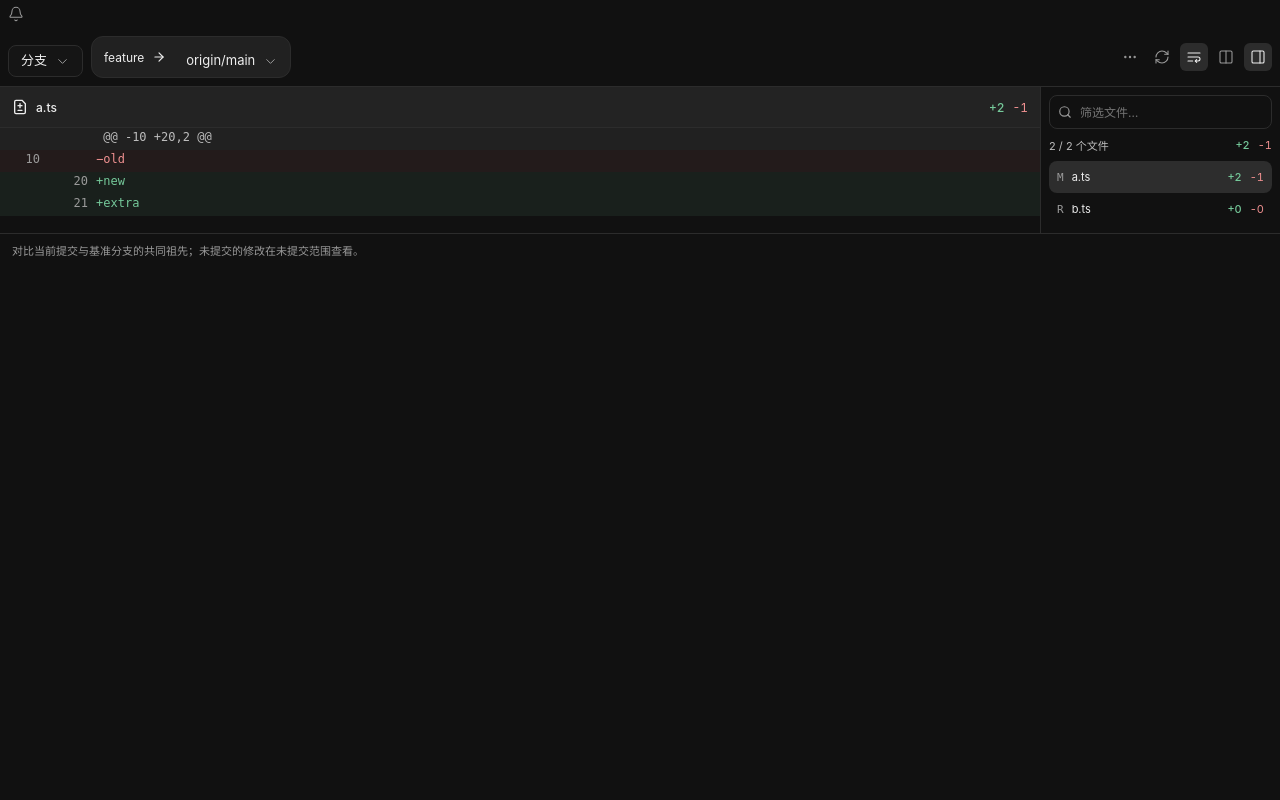
uses the server's empty snapshot result and reports unsupported responses
This screenshot has width=1280, height=800.
expect the element named "统一文件差异" is shown: met, box x1=0 y1=128 x2=1040 y2=216
Click the dropdown named "变更范围".
click(46, 61)  # box x1=8 y1=45 x2=83 y2=77
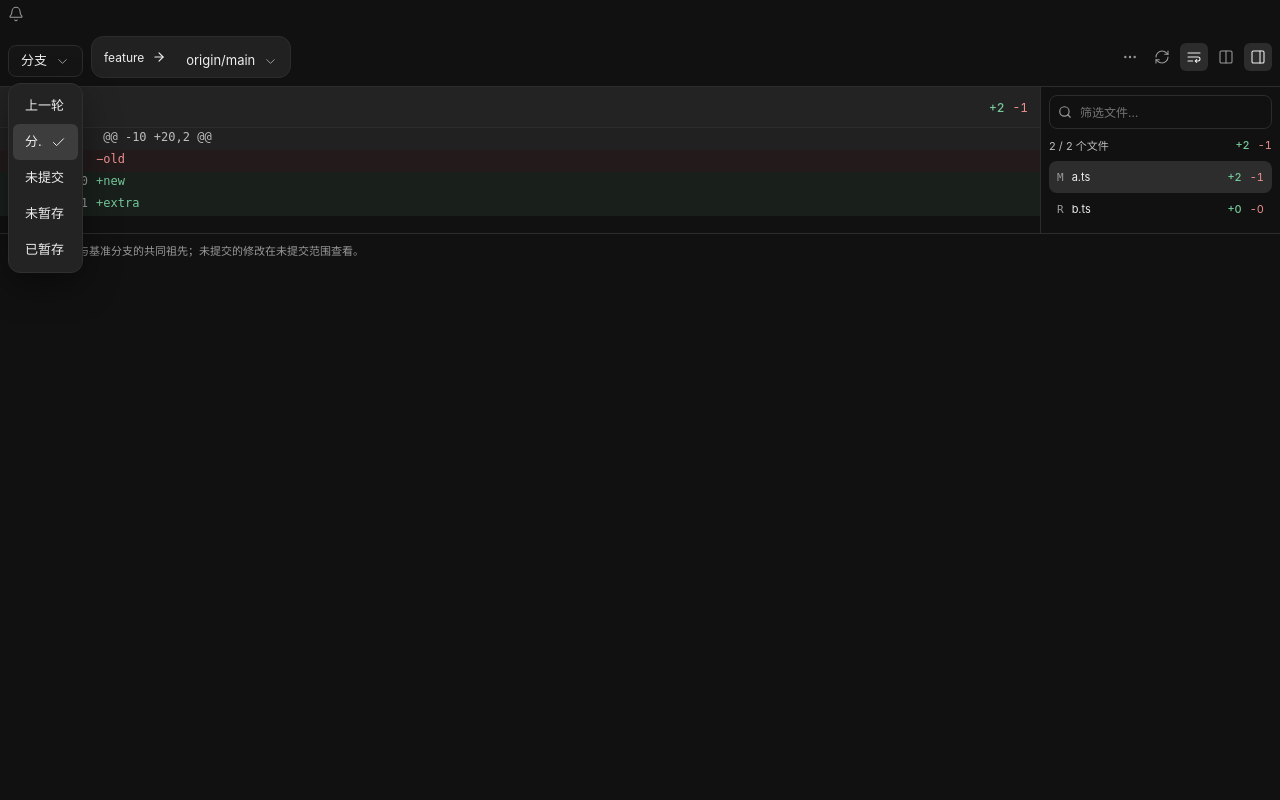
Click the option "上一轮".
click(46, 106)  # box x1=13 y1=88 x2=78 y2=124
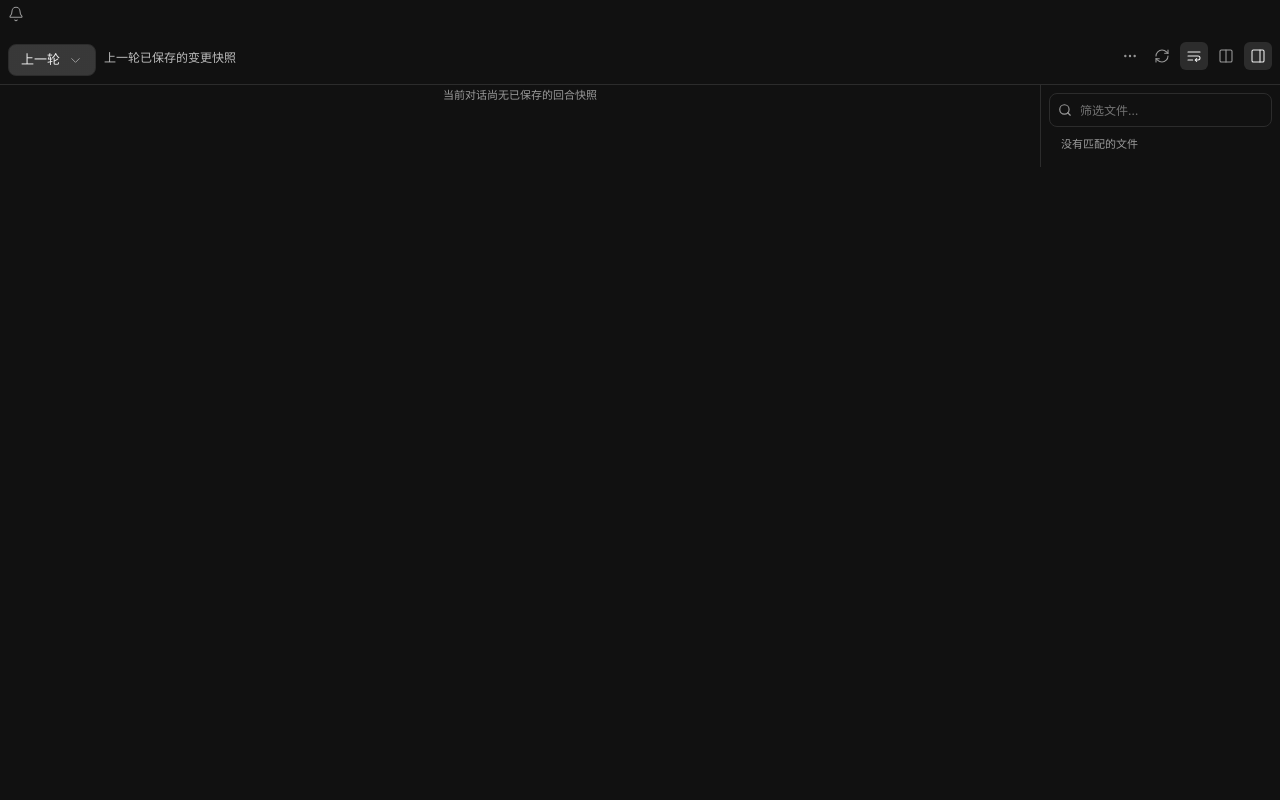
expect the dropdown named "变更范围" reads "上一轮": met, box x1=8 y1=44 x2=96 y2=76
expect the text "当前对话尚无已保存的回合快照" is shown: met, box x1=443 y1=88 x2=597 y2=102
Click the button named "刷新变更".
click(1162, 56)  # box x1=1148 y1=42 x2=1176 y2=70
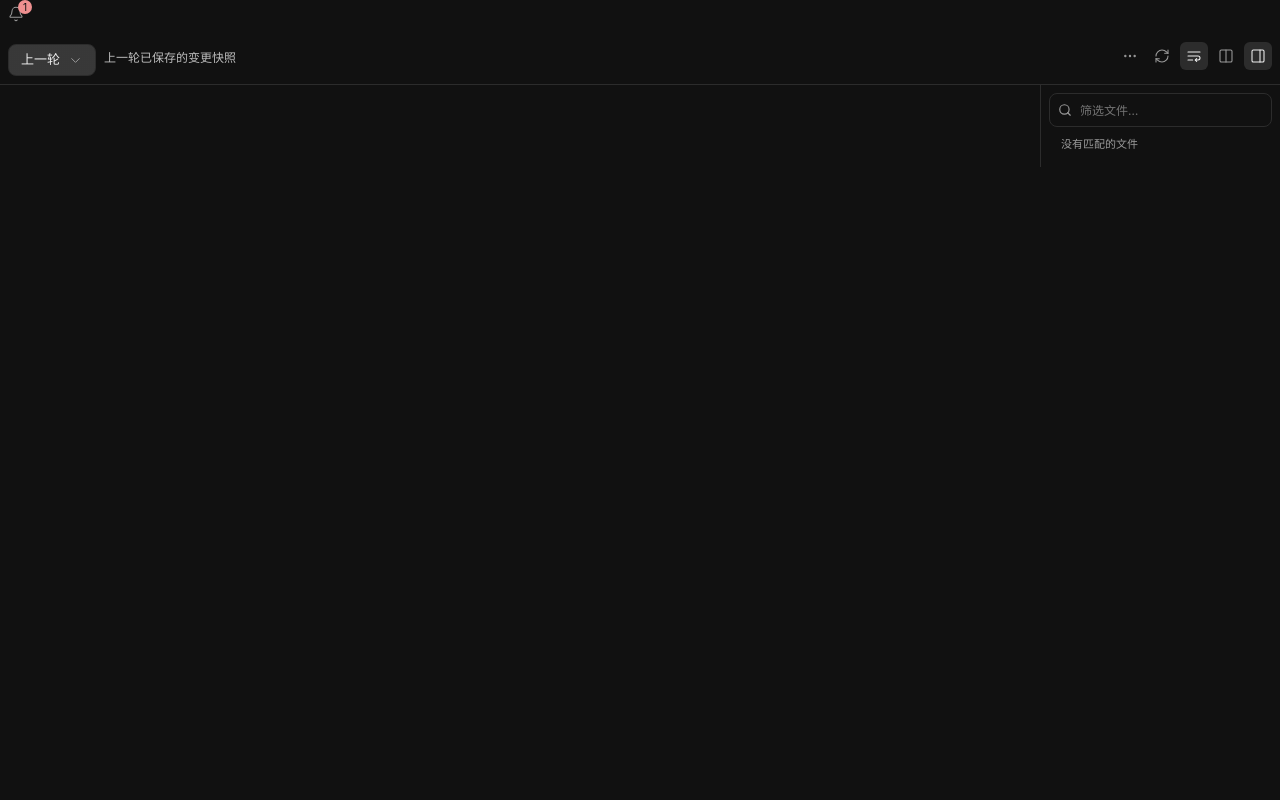
Click the button named "状态提示（".
click(16, 14)  # box x1=0 y1=0 x2=32 y2=28
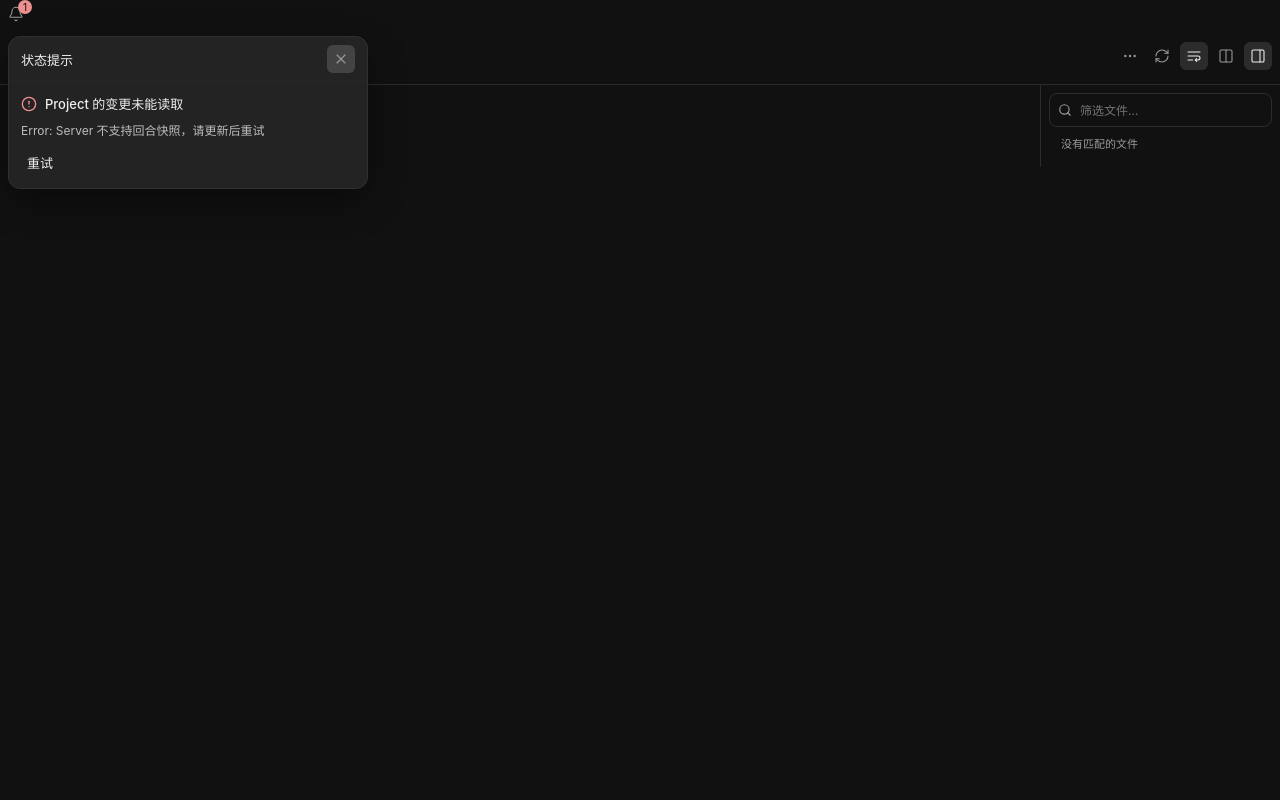
expect the dialog "状态提示" shows "不支持回合快照": met, box x1=21 y1=123 x2=265 y2=138
